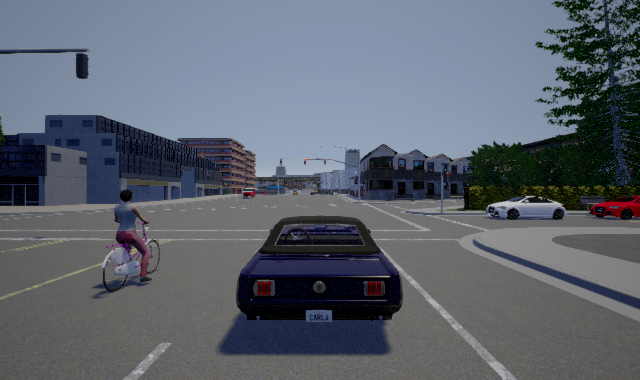bike: (101, 188, 160, 292)
traffic_light: (324, 159, 326, 165), (304, 159, 306, 165), (280, 159, 282, 165)
vehicle: (236, 215, 403, 322), (485, 196, 567, 220), (589, 196, 640, 220), (241, 186, 256, 198)
